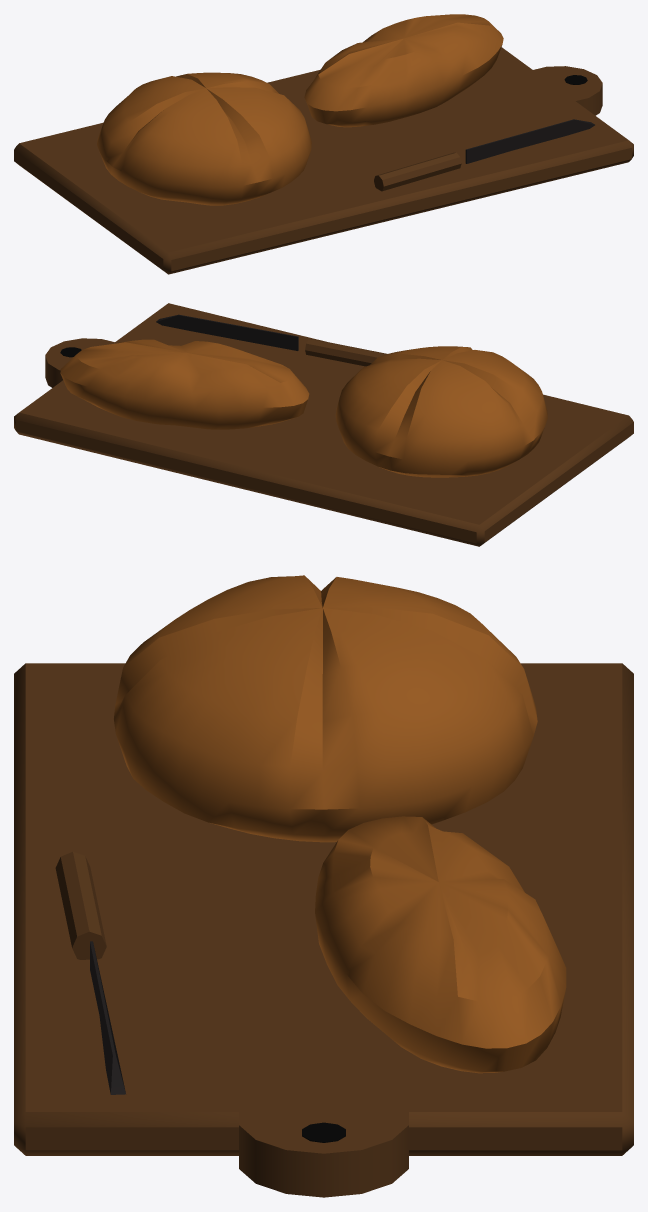
The model's file is brotlaib.glb.
3 renders of one model, top to bottom at view 1: azimuth 30°, elevation 25°; view 2: azimuth 150°, elevation 25°; view 3: azimuth 270°, elevation 25°, orthographic. The views are drawn at different scales.
Visible parts, largest first — view 1: brotlaib; view 2: brotlaib; view 3: brotlaib.
Boxes of the visible parts, <box> form: brotlaib: <box>14,14,633,274</box>; brotlaib: <box>14,303,633,546</box>; brotlaib: <box>14,575,633,1197</box>.
Size of the model in its own units: 0.605 by 0.1188 by 0.32.
